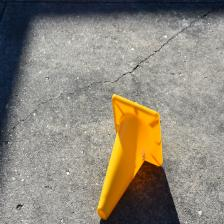cone: (97, 93, 163, 221)
